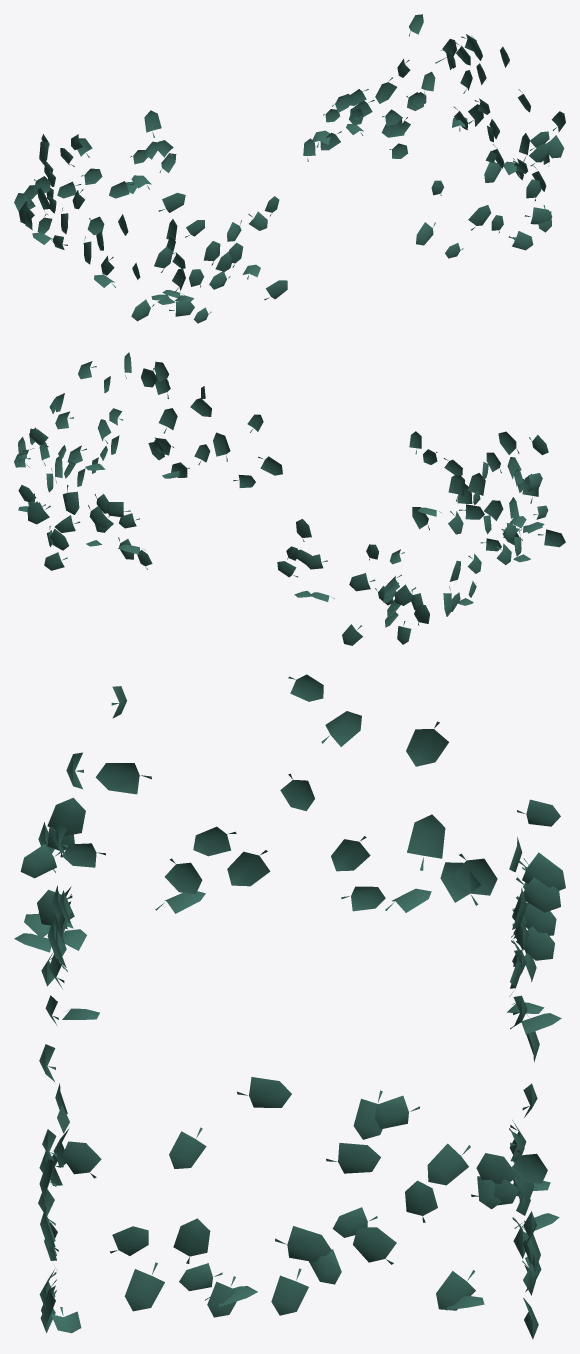
File: ArchSmlIvy.fbx
3 renders of one model, top to bottom at view 1: azimuth 30°, elevation 25°; view 2: azimuth 150°, elevation 25°; view 3: azimuth 270°, elevation 25°, orthographic. The views are drawn at different scales.
Visible parts, largest first — view 1: ArchSmlIvy; view 2: ArchSmlIvy; view 3: ArchSmlIvy.
Boxes of the visible parts, left/top/right/bottom form: ArchSmlIvy: left=14, top=14, right=565, bottom=323; ArchSmlIvy: left=14, top=352, right=565, bottom=645; ArchSmlIvy: left=14, top=674, right=565, bottom=1339.
Size of the model in its own units: 652 by 362 by 226.
